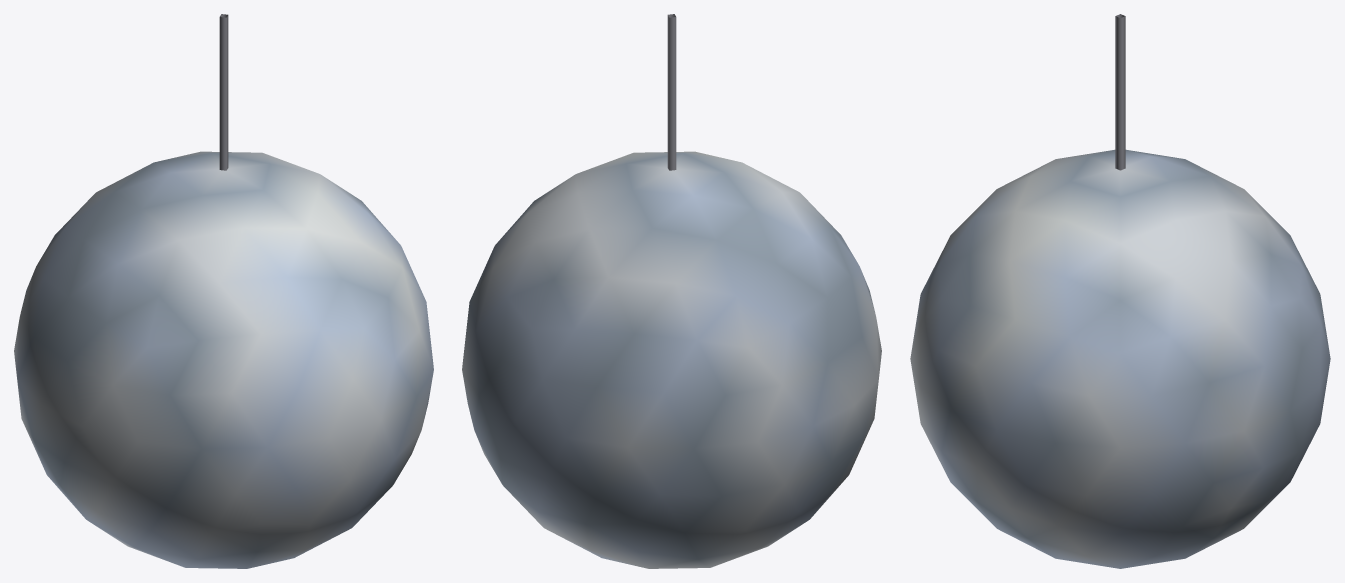
File: furn_disco_ball.glb
3 views of the same model, side by side, from view 1: azimuth 30°, elevation 25°; view 2: azimuth 150°, elevation 25°; view 3: azimuth 270°, elevation 25° (orthographic).
Visible parts, largest first — view 1: furn_disco_ball_move, furn_disco_ball_main; view 2: furn_disco_ball_move, furn_disco_ball_main; view 3: furn_disco_ball_move, furn_disco_ball_main.
Part boxes in pixels (<box>): furn_disco_ball_move: <box>14,151,433,568</box>; furn_disco_ball_main: <box>219,14,228,170</box>; furn_disco_ball_move: <box>462,151,881,568</box>; furn_disco_ball_main: <box>667,14,676,170</box>; furn_disco_ball_move: <box>910,149,1330,568</box>; furn_disco_ball_main: <box>1115,14,1125,170</box>.
Bounding box in the file's own units: 0.5 × 0.7 × 0.5.
